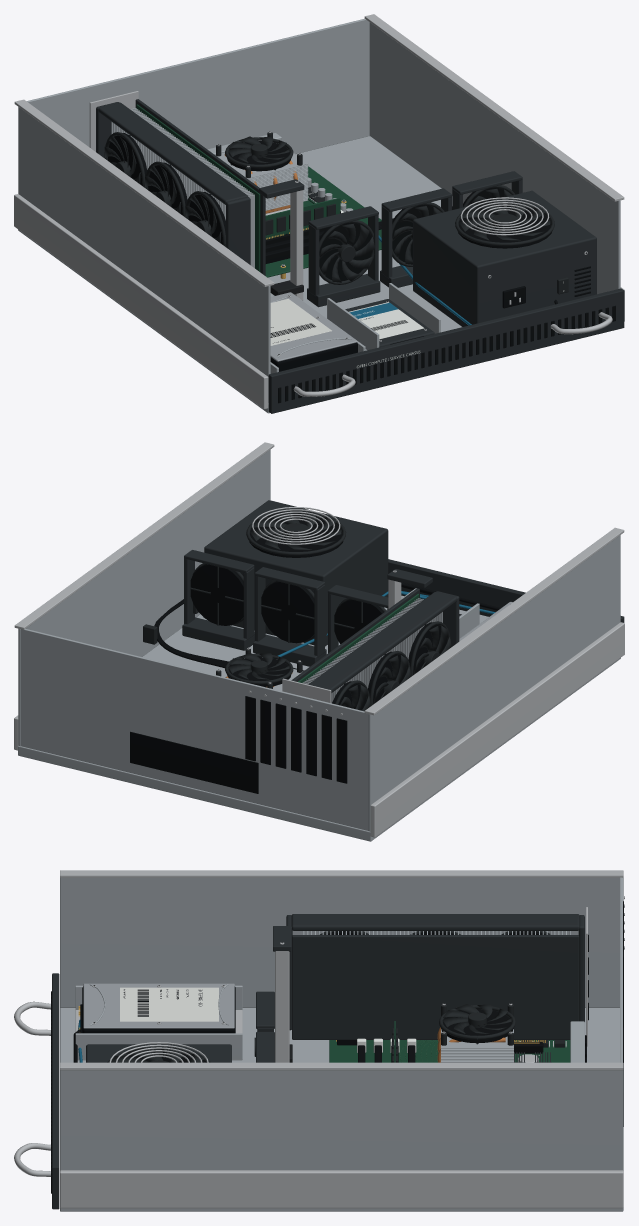
The model's file is populated-chassis.glb.
3 renders of one model, top to bottom at view 1: azimuth 30°, elevation 25°; view 2: azimuth 150°, elevation 25°; view 3: azimuth 270°, elevation 25°, orthographic. The views are drawn at different scales.
Parts seen in each view (by area): view 1: SERVICE_TRAY / Satin aluminium, SERVICE_TRAY / Charcoal powder coated steel, SERVICE_TRAY / Nickel plated fasteners, PSU enclosure, GRAPHICS_CARD / Charcoal powder coated steel, SERVICE_TRAY / Dark cavity interior, Fan rotor assembly.009 / Fine moulded ABS, Fan rotor assembly.010 / Fine moulded ABS, GRAPHICS_CARD / Satin aluminium, Stamped metal cover, Paper specification label, COMPUTE_PSU / Nickel plated fasteners (+23 smaller); view 2: SERVICE_TRAY / Satin aluminium, SERVICE_TRAY / Nickel plated fasteners, SERVICE_TRAY / Charcoal powder coated steel, SERVICE_TRAY / Dark cavity interior, PSU enclosure, GRAPHICS_CARD / Charcoal powder coated steel, Fan shadow.011, Fan shadow.012, Fan rotor assembly.009 / Fine moulded ABS, COMPUTE_PSU / Nickel plated fasteners, GRAPHICS_CARD / Satin aluminium, Fan rotor assembly.002 / Fine moulded ABS (+8 smaller); view 3: SERVICE_TRAY / Satin aluminium, SERVICE_TRAY / Nickel plated fasteners, GRAPHICS_CARD / Charcoal powder coated steel, SERVICE_TRAY / Charcoal powder coated steel, Stamped metal cover, Paper specification label, ATX PCB, Fan rotor assembly.002 / Fine moulded ABS, HDD_3_5 / V2 deep recess, CPU_COOLER / Satin aluminium, PSU enclosure, COMPUTE_PSU / Nickel plated fasteners (+6 smaller).
Boxes of the visible parts, x1,y1,x2,y2 form: SERVICE_TRAY / Satin aluminium: (18, 18, 620, 413); SERVICE_TRAY / Charcoal powder coated steel: (259, 171, 624, 413); SERVICE_TRAY / Nickel plated fasteners: (14, 14, 624, 409); PSU enclosure: (413, 190, 596, 326); GRAPHICS_CARD / Charcoal powder coated steel: (96, 99, 265, 275); SERVICE_TRAY / Dark cavity interior: (278, 181, 615, 403); Fan rotor assembly.009 / Fine moulded ABS: (455, 202, 554, 245); Fan rotor assembly.010 / Fine moulded ABS: (319, 220, 374, 284); GRAPHICS_CARD / Satin aluminium: (111, 108, 254, 268); Stamped metal cover: (270, 292, 357, 361); Paper specification label: (270, 298, 331, 345); COMPUTE_PSU / Nickel plated fasteners: (460, 197, 587, 304); SERVICE_TRAY / Satin aluminium: (18, 450, 620, 841); SERVICE_TRAY / Nickel plated fasteners: (14, 442, 624, 837); SERVICE_TRAY / Charcoal powder coated steel: (182, 550, 624, 666); SERVICE_TRAY / Dark cavity interior: (130, 570, 500, 793); PSU enclosure: (204, 500, 388, 646); GRAPHICS_CARD / Charcoal powder coated steel: (291, 588, 459, 692); Fan shadow.011: (261, 581, 314, 643); Fan shadow.012: (190, 564, 243, 625); Fan rotor assembly.009 / Fine moulded ABS: (246, 511, 346, 555); COMPUTE_PSU / Nickel plated fasteners: (252, 507, 340, 544); GRAPHICS_CARD / Satin aluminium: (302, 598, 442, 703); Fan rotor assembly.002 / Fine moulded ABS: (225, 653, 293, 684); SERVICE_TRAY / Satin aluminium: (60, 877, 623, 1211); SERVICE_TRAY / Nickel plated fasteners: (14, 870, 624, 1208); GRAPHICS_CARD / Charcoal powder coated steel: (286, 914, 584, 1039); SERVICE_TRAY / Charcoal powder coated steel: (52, 926, 291, 1209); Stamped metal cover: (83, 983, 234, 1028); Paper specification label: (120, 987, 218, 1021); ATX PCB: (329, 1040, 570, 1062); Fan rotor assembly.002 / Fine moulded ABS: (439, 1004, 515, 1044); HDD_3_5 / V2 deep recess: (80, 986, 235, 1033); CPU_COOLER / Satin aluminium: (441, 1029, 513, 1062); PSU enclosure: (86, 1044, 231, 1062); COMPUTE_PSU / Nickel plated fasteners: (109, 1042, 208, 1062).
Size of the model in its own units: 0.45 by 0.1545 by 0.5854.
